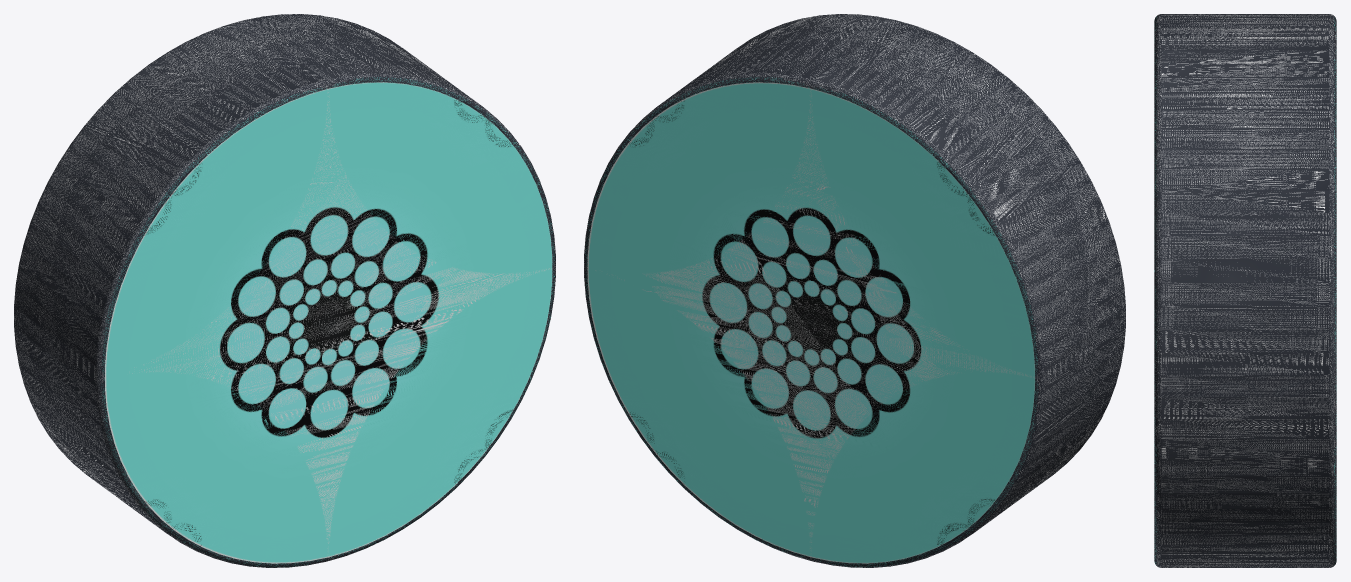
The model's file is atom1.dae.
3 views of the same model, side by side, from view 1: azimuth 30°, elevation 25°; view 2: azimuth 150°, elevation 25°; view 3: azimuth 270°, elevation 25° (orthographic). The views are drawn at different scales.
Visible parts, largest first — view 1: skp3A86 (×2); view 2: skp3A86 (×2); view 3: skp3A86.
Boxes of the visible parts, x1,y1,x2,y2 form: skp3A86 (×2): (14,14,555,567); skp3A86 (×2): (584,14,1125,567); skp3A86: (1154,14,1336,567).
Size of the model in its own units: 2.99 by 0.9843 by 2.99.
3 materials, 3 textured.
